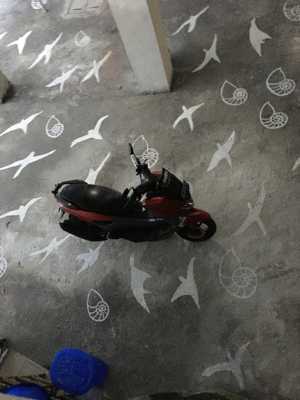moto: (49, 160, 217, 245)
